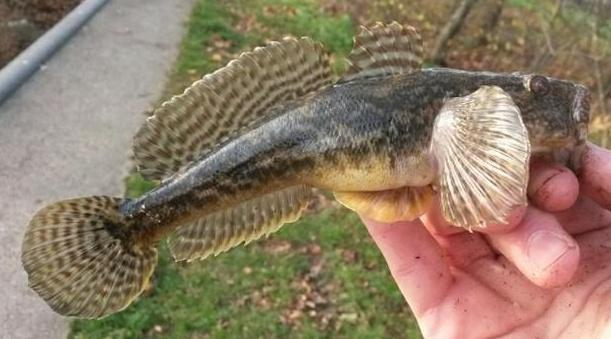Goby: (17, 20, 598, 322)
